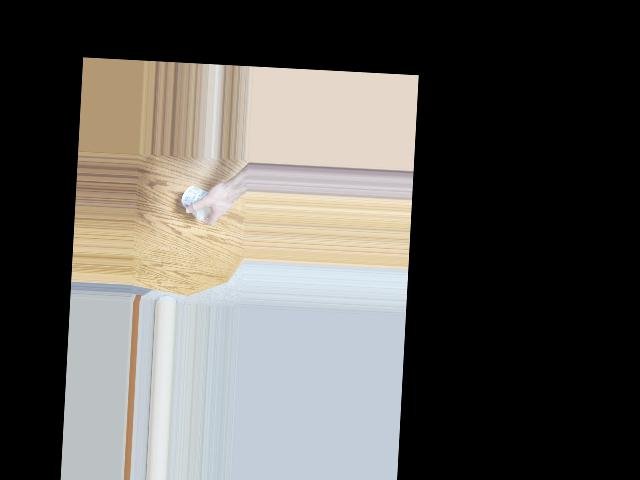cotage: (184, 181, 217, 221)
